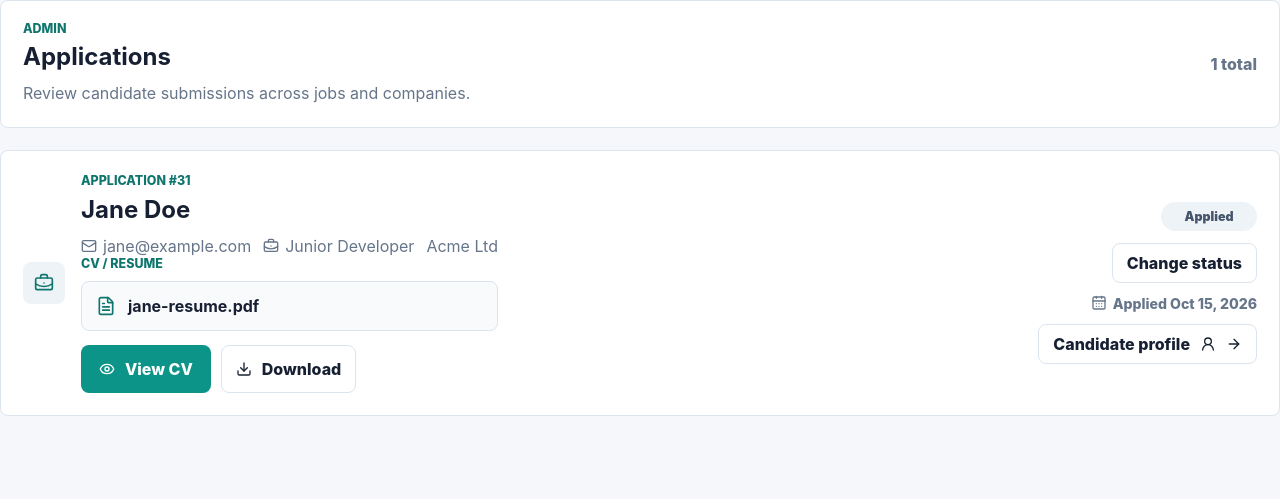
Scenario: AdminApplicationsPage › shows a helpful message when the browser blocks CV preview
Click the button "View CV" at (146, 369), box [81,345,211,393]
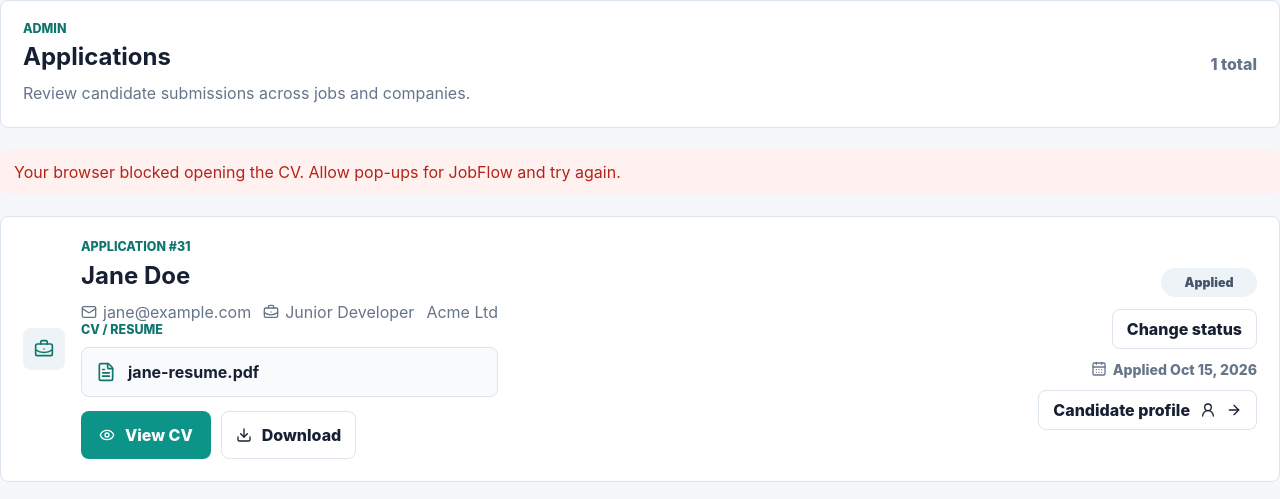
Expected: the text "Your browser blocked opening the CV. Allow pop-ups for JobFlow and try again." is shown, [0,150,1279,194]
